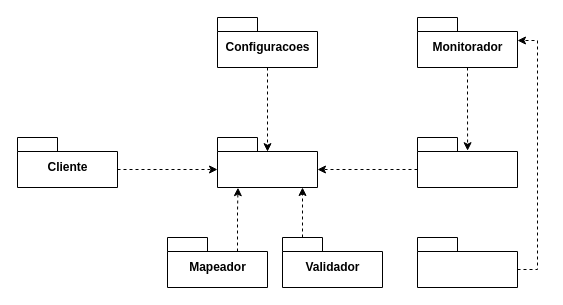
The diagram is 563 pixels wide and 305 high, and some of its shapes have lost their labels. Each missing label, with the centre of its shape:
"Broker" belongs at (x=267, y=162).
"Healthcheck" belongs at (x=467, y=262).
"Ranqueador" belongs at (x=467, y=162).
